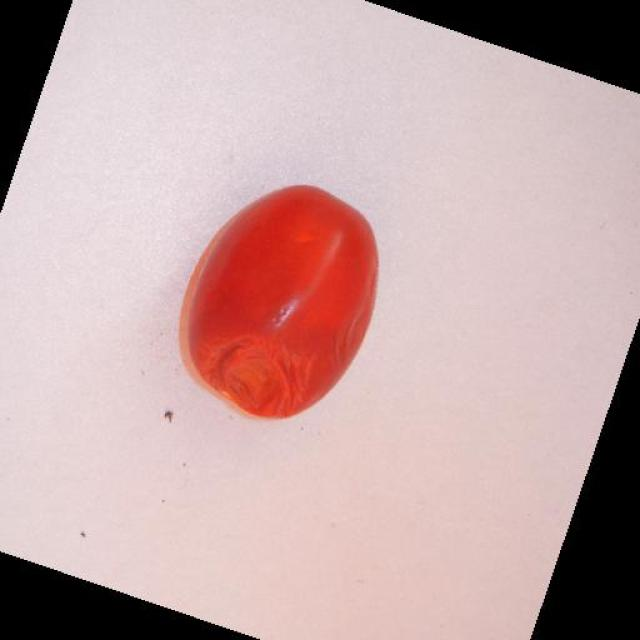Stale_tomato: (182, 193, 362, 420)
